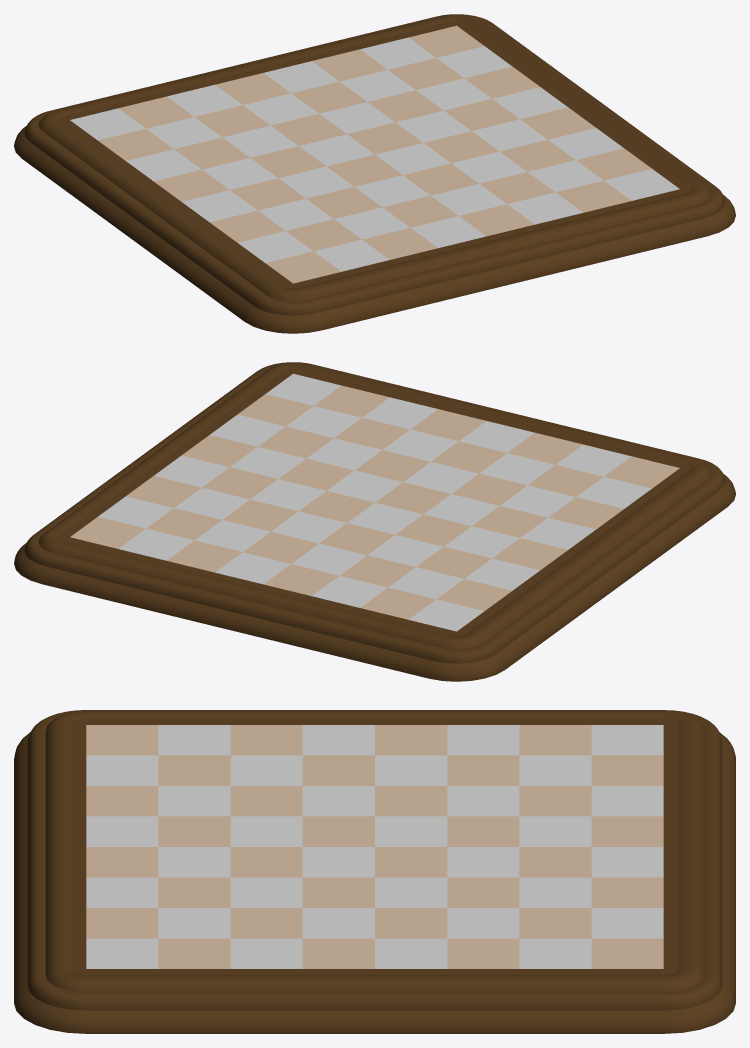
The model's file is chess_board_wood.obj.
3 renders of one model, top to bottom at view 1: azimuth 30°, elevation 25°; view 2: azimuth 150°, elevation 25°; view 3: azimuth 270°, elevation 25°, orthographic. The views are drawn at different scales.
Visible parts, largest first — view 1: Body11, Body13, Body12; view 2: Body11, Body12, Body13; view 3: Body11, Body12, Body13.
Boxes of the visible parts, x1=… form: Body11: x1=14, y1=14, x2=735, y2=333; Body13: x1=98, y1=25, x2=651, y2=283; Body12: x1=70, y1=37, x2=679, y2=271; Body11: x1=14, y1=362, x2=735, y2=681; Body12: x1=98, y1=373, x2=651, y2=631; Body13: x1=70, y1=385, x2=679, y2=619; Body11: x1=14, y1=710, x2=735, y2=1033; Body12: x1=86, y1=725, x2=663, y2=968; Body13: x1=86, y1=725, x2=663, y2=968.
Size of the model in its own units: 48 by 2.64 by 48.
